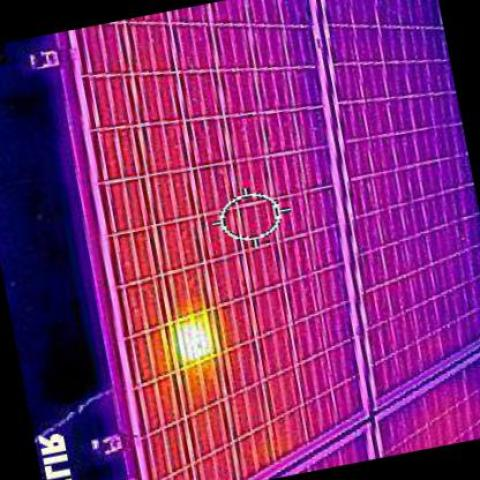fault: (174, 318, 214, 356)
